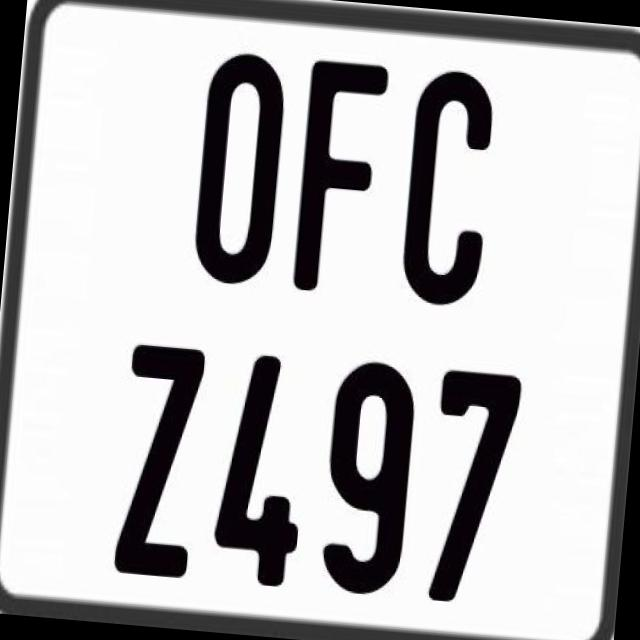0: (190, 45, 288, 288)
4: (209, 347, 317, 583)
7: (422, 367, 522, 608)
9: (314, 355, 418, 598)
C: (399, 67, 500, 313)
F: (288, 55, 388, 298)
Z: (111, 342, 206, 578)
